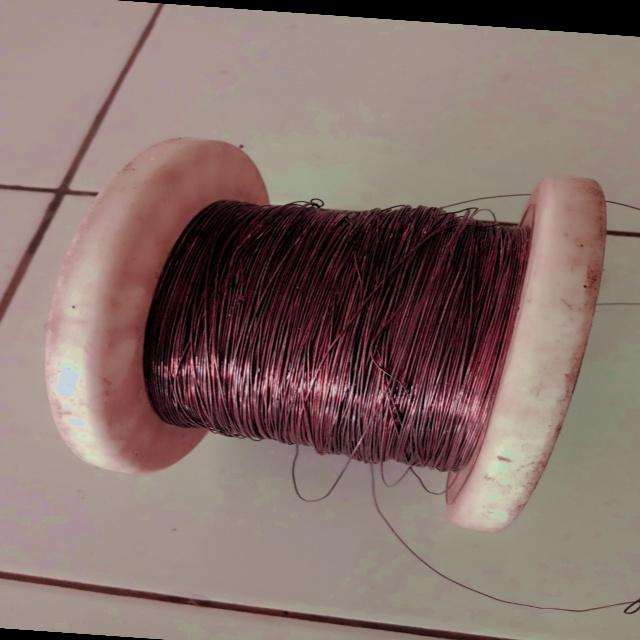Copper Wire: (0, 123, 634, 536)
